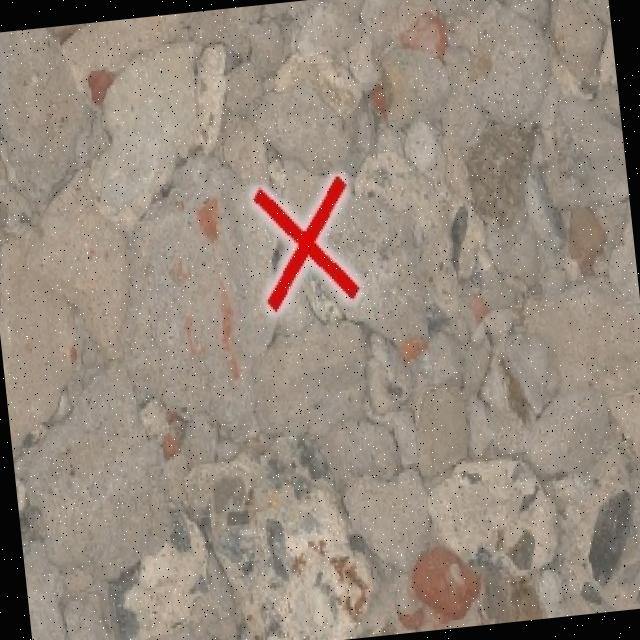x_marker: (250, 174, 360, 311)
